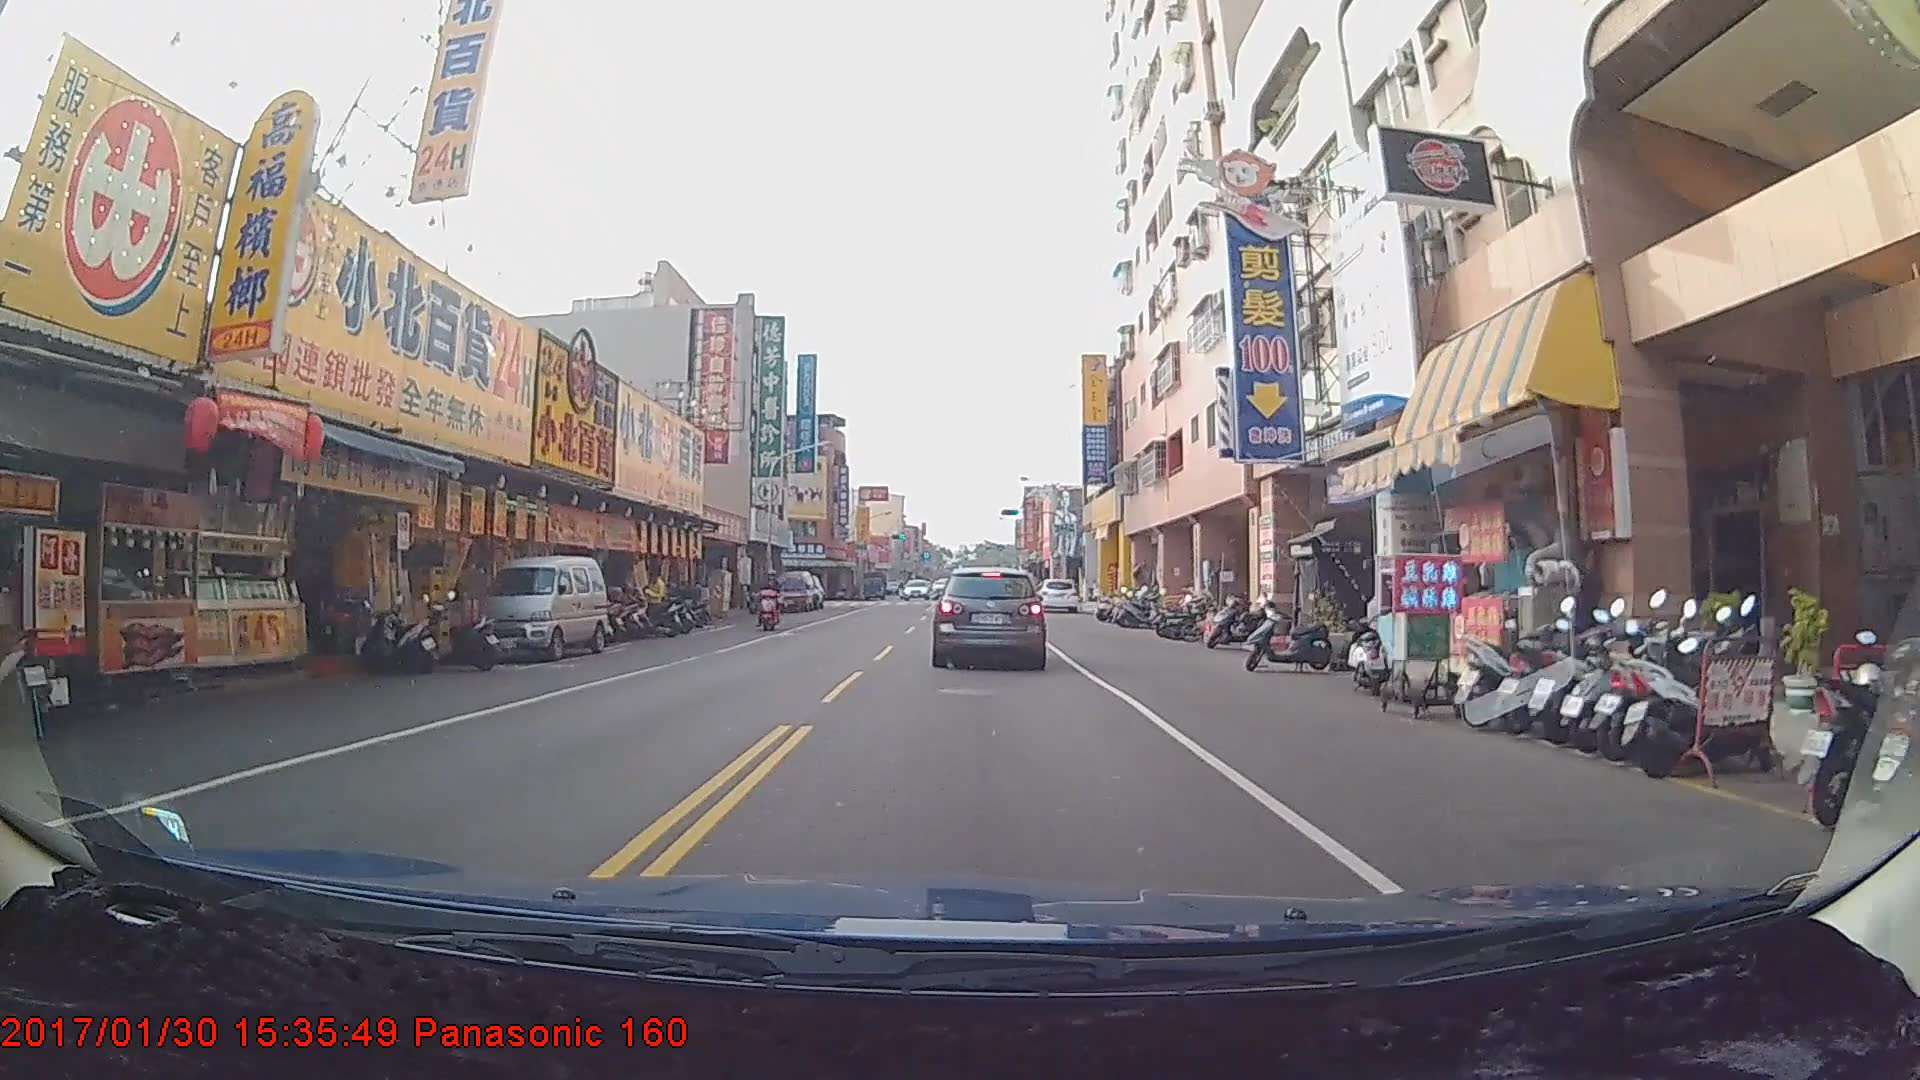pedestrian: (638, 568, 667, 632)
rider: (761, 566, 791, 632)
vehicle: (467, 554, 604, 662), (934, 562, 1045, 669), (773, 569, 815, 612), (1035, 577, 1080, 615), (902, 579, 929, 600)
